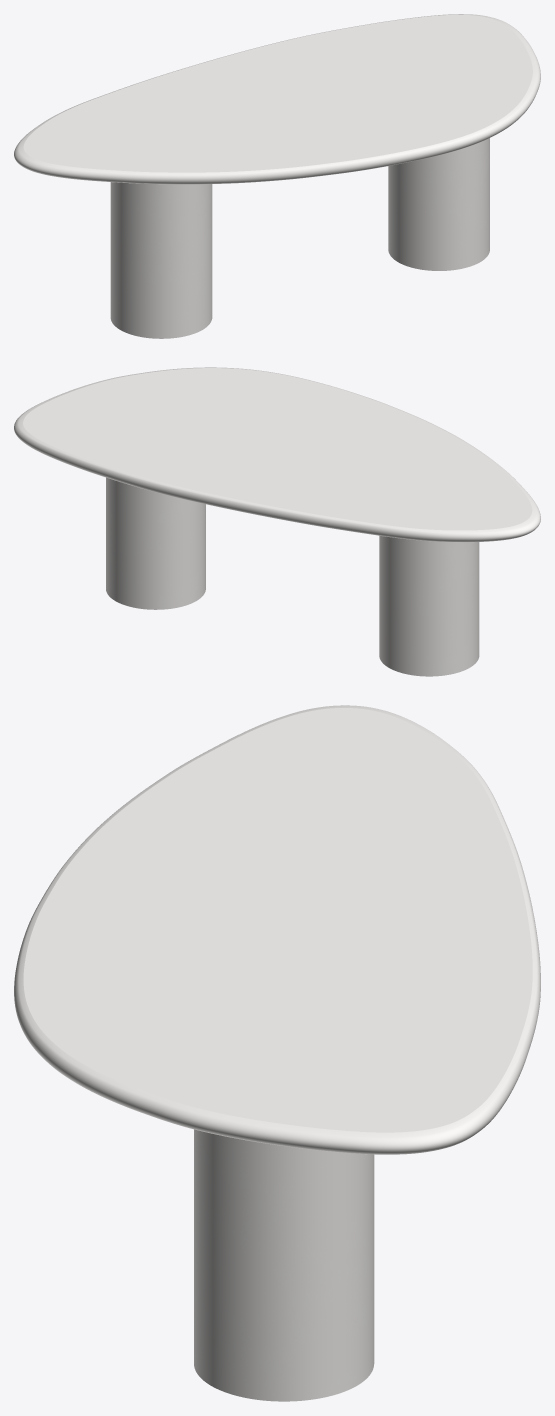
The model's file is purewhite_pebbletop_round_stream.glb.
The picture shows the model from 3 angles, top to bottom: view 1: azimuth 30°, elevation 25°; view 2: azimuth 150°, elevation 25°; view 3: azimuth 270°, elevation 25°; orthographic projection. The views are drawn at different scales.
Parts seen in each view (by area): view 1: round_pebbletop, stream; view 2: round_pebbletop, stream; view 3: round_pebbletop, stream.
Boxes of the visible parts, bbox=[...] form: round_pebbletop: bbox=[14, 14, 540, 184]; stream: bbox=[110, 138, 489, 338]; round_pebbletop: bbox=[14, 367, 540, 542]; stream: bbox=[106, 477, 479, 676]; round_pebbletop: bbox=[14, 705, 540, 1154]; stream: bbox=[194, 1129, 374, 1401].
Size of the model in its own units: 7.5 by 2.51 by 3.8.
1 material, 1 textured.
